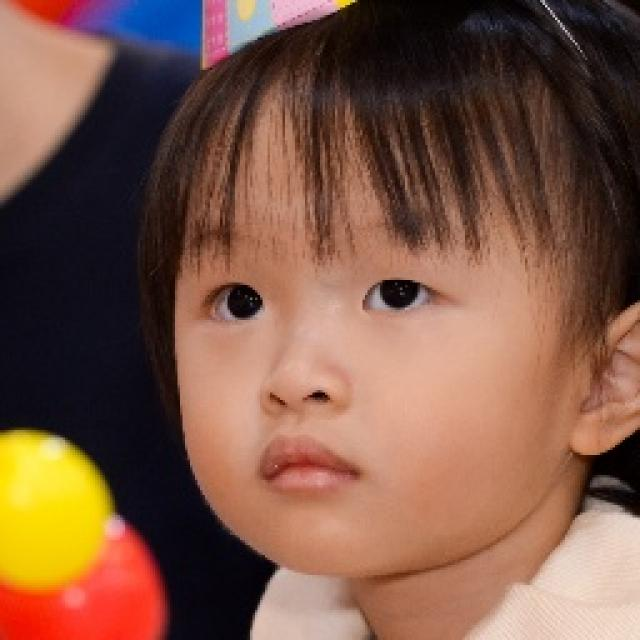earlobe: (565, 406, 610, 458)
eye: (356, 272, 444, 316), (198, 282, 266, 324)
nose: (265, 397, 342, 431)
wholeear: (562, 302, 640, 458)
